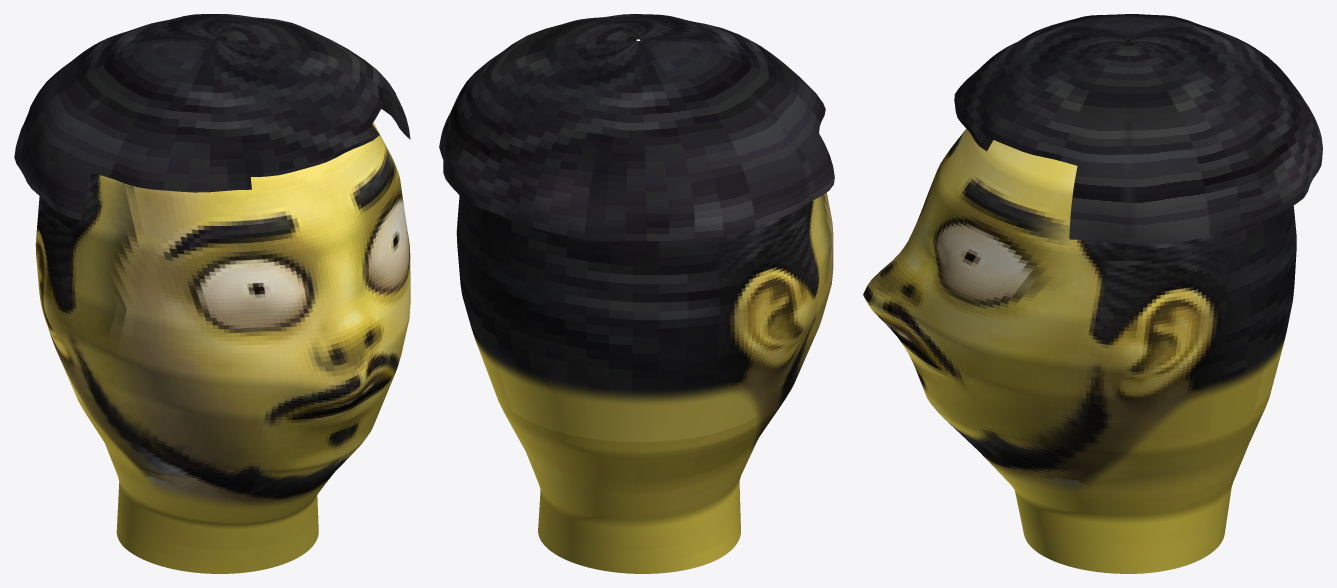
File: head.glb
3 renders of one model, left to right at view 1: azimuth 30°, elevation 25°; view 2: azimuth 150°, elevation 25°; view 3: azimuth 270°, elevation 25°, orthographic.
Visible parts, largest first — view 1: sergio source head and dimensional accessories; view 2: sergio source head and dimensional accessories; view 3: sergio source head and dimensional accessories.
Boxes of the visible parts, left/top/right/bottom form: sergio source head and dimensional accessories: left=14, top=14, right=410, bottom=573; sergio source head and dimensional accessories: left=439, top=14, right=834, bottom=573; sergio source head and dimensional accessories: left=863, top=14, right=1322, bottom=573.
Size of the model in its own units: 0.2903 by 0.389 by 0.3306.
2 materials, 2 textured.
